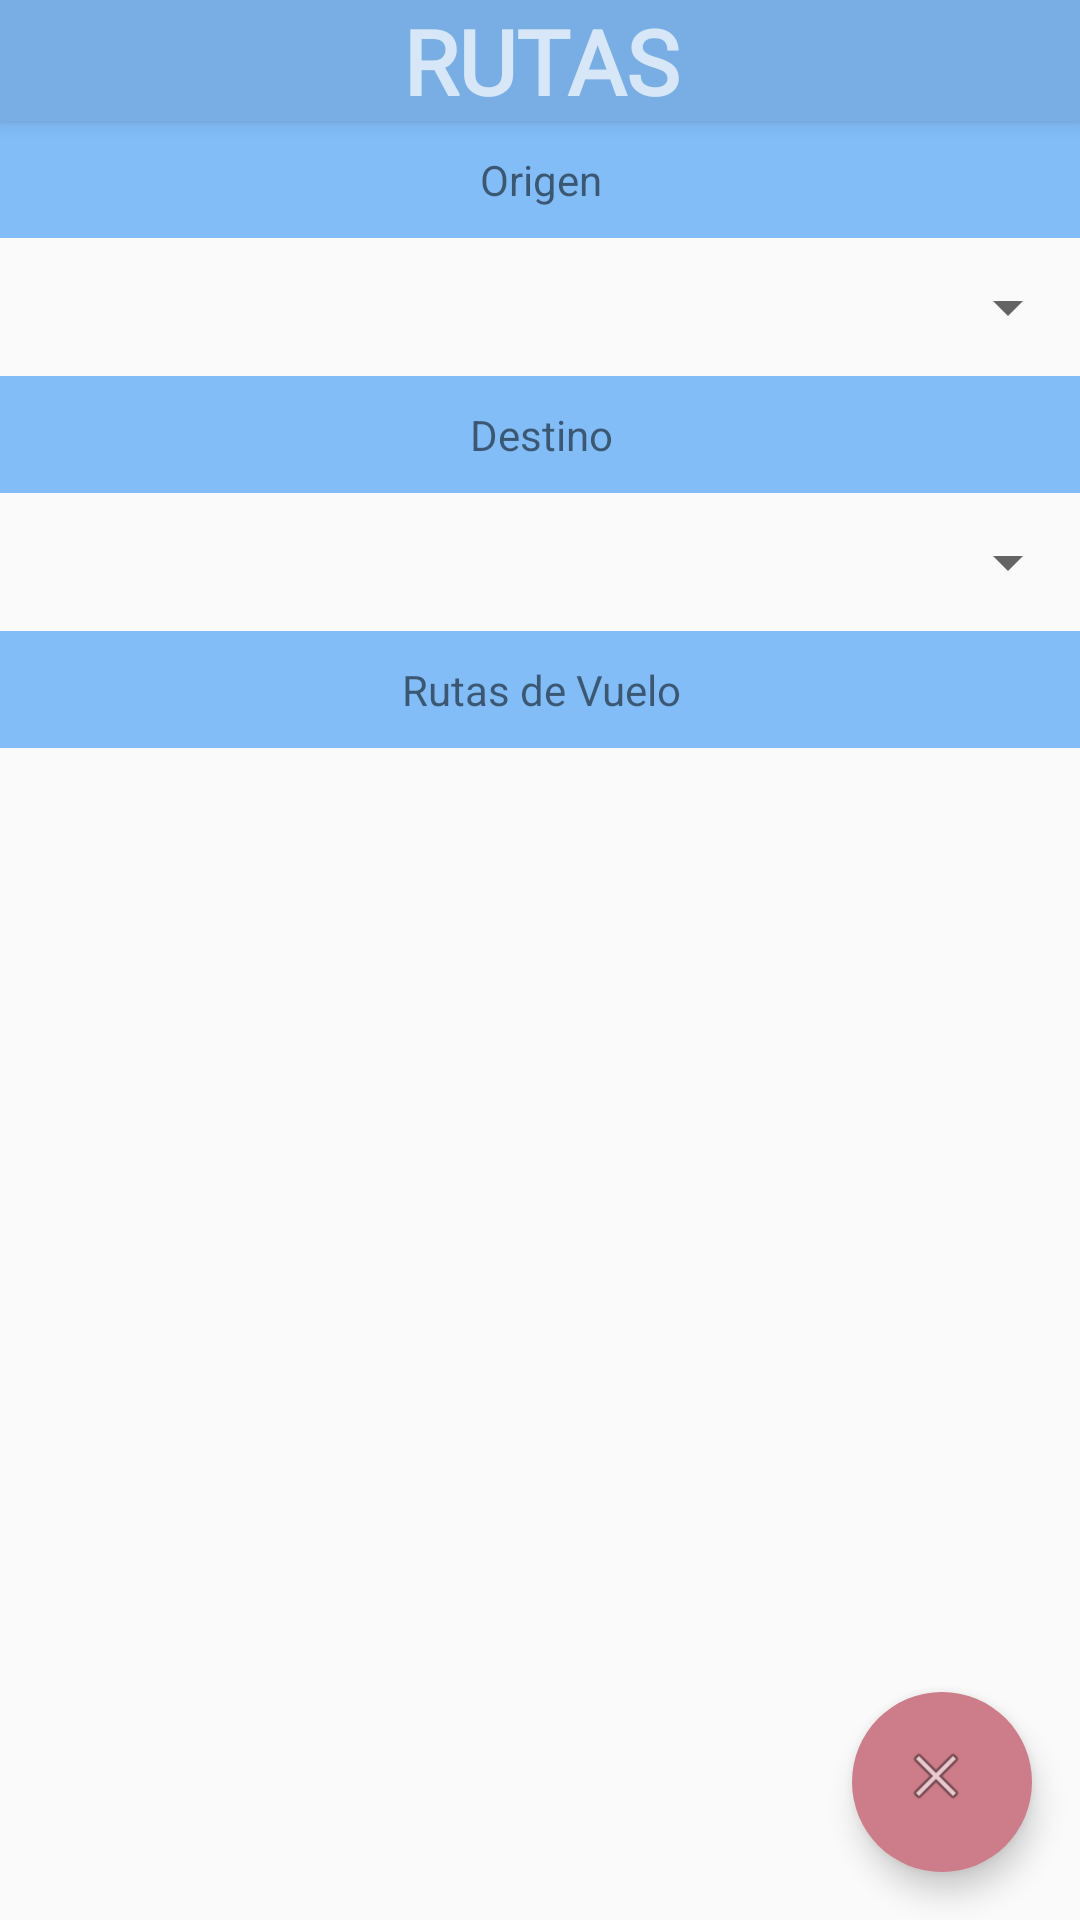

Where to tap for icons on this 1080px x 1920px app screen, as (x,y):
close clear cancel: (942,1782)
